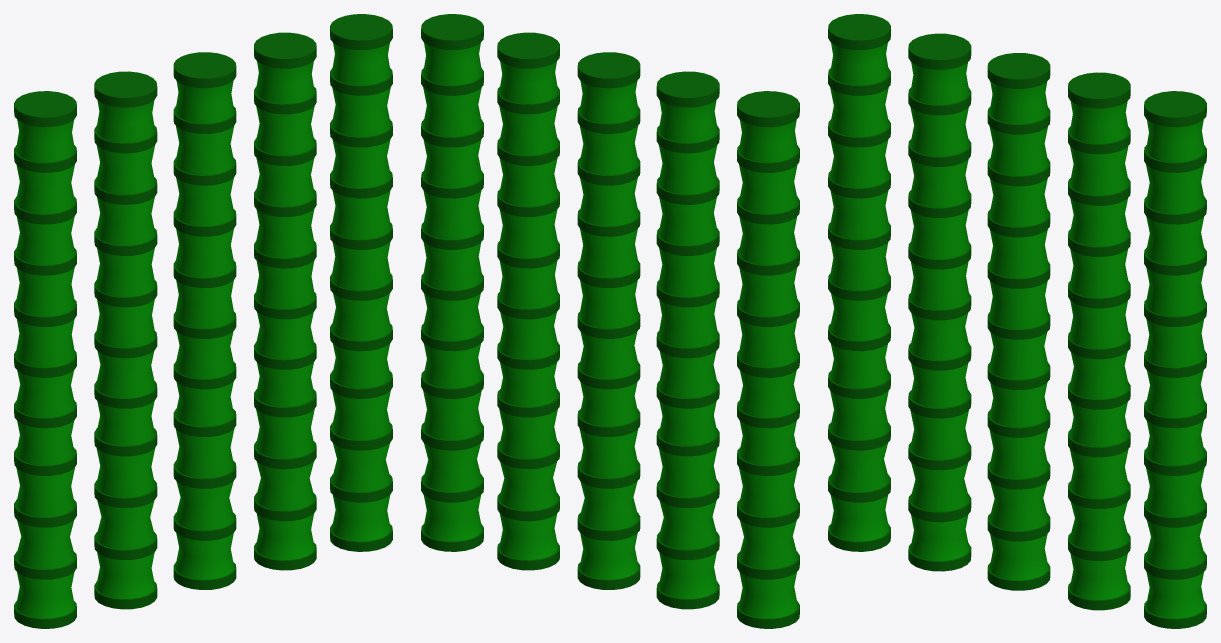
Rendered from bamboo.fbx.
3 renders of one model, left to right at view 1: azimuth 30°, elevation 25°; view 2: azimuth 150°, elevation 25°; view 3: azimuth 330°, elevation 25°, orthographic.
Visible parts, largest first — view 1: pCylinder61; view 2: pCylinder61; view 3: pCylinder61.
Boxes of the visible parts, x1,y1,x2,y2 form: pCylinder61: (14,14,392,628); pCylinder61: (421,14,799,628); pCylinder61: (828,14,1206,628).
Size of the model in its own units: 13.9 by 18.33 by 2.05.
